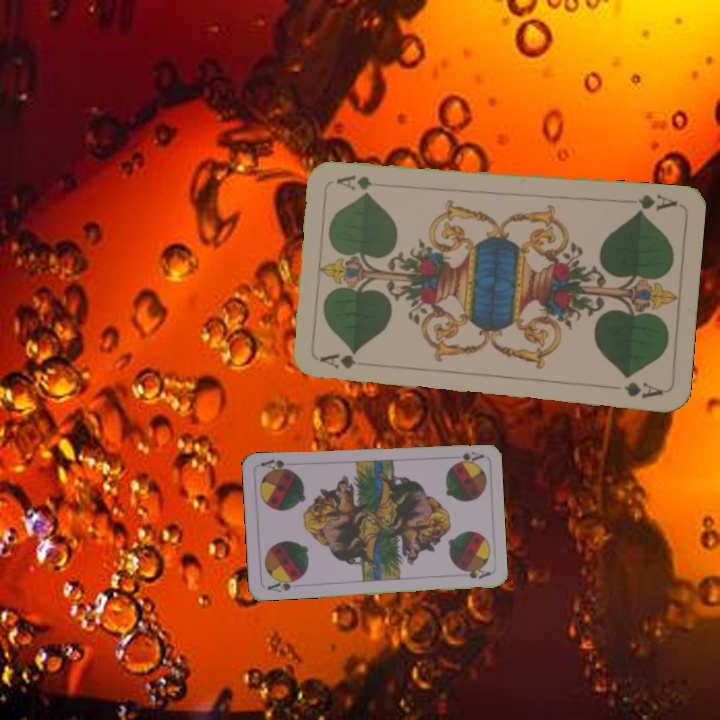GA: (633, 190, 680, 216), (316, 350, 369, 372)
SA: (263, 574, 303, 595), (452, 447, 485, 465)
